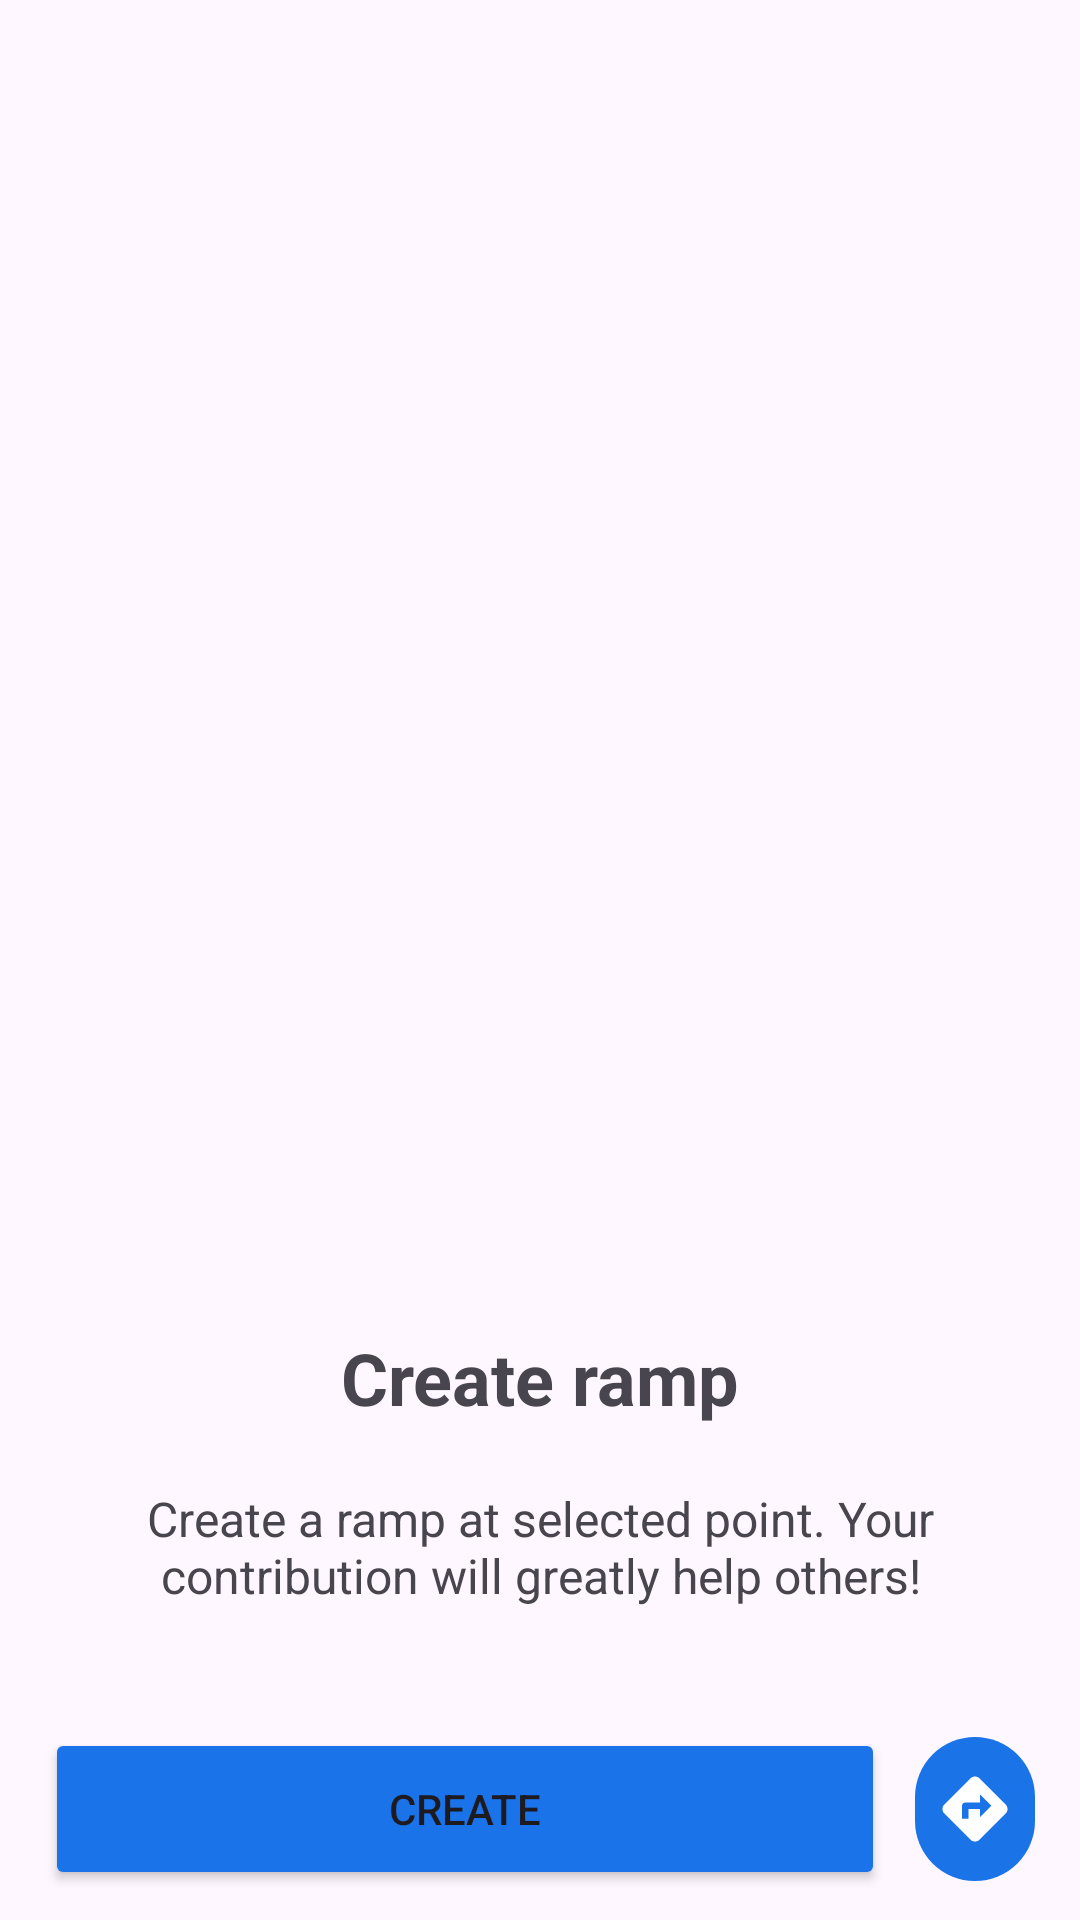

Named icons in this screenshot (1080px x 1920px) and their bounding boxes, (x1, y1, x2, y2):
goto: (915, 1737, 1035, 1881)
